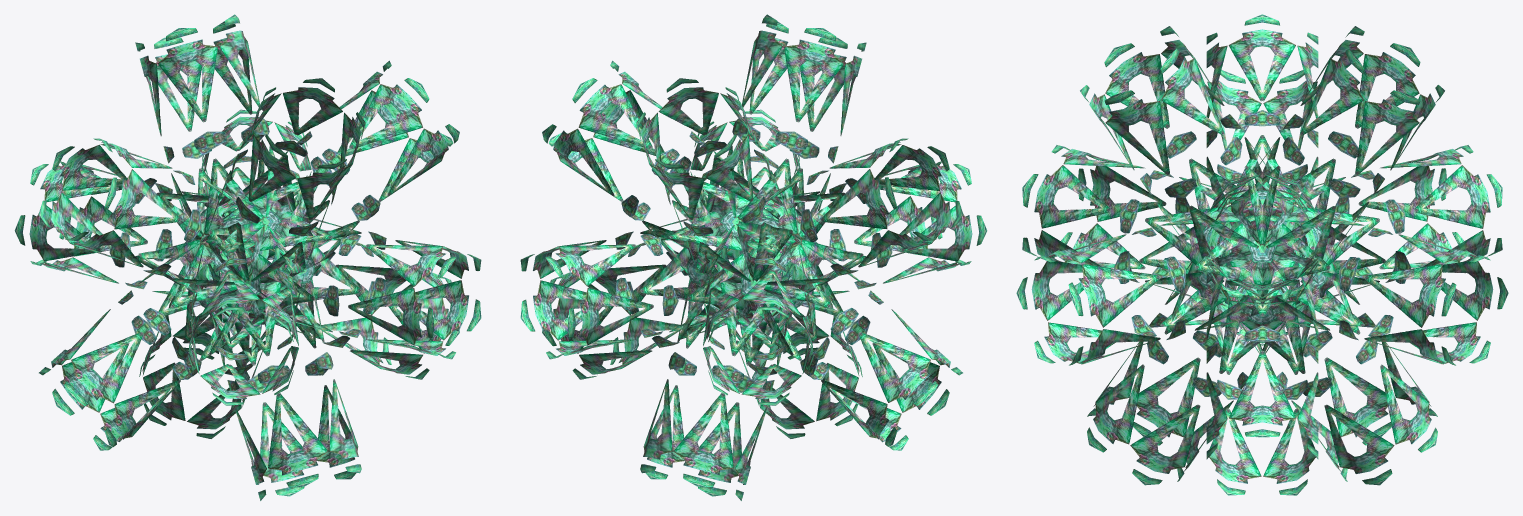
The model's file is SmallIcosihemidodecacron4.gltf.
3 renders of one model, left to right at view 1: azimuth 30°, elevation 25°; view 2: azimuth 150°, elevation 25°; view 3: azimuth 270°, elevation 25°, orthographic. The views are drawn at different scales.
Parts seen in each view (by area): view 1: SmallIcosihemidodecacron; view 2: SmallIcosihemidodecacron; view 3: SmallIcosihemidodecacron.
Part boxes in pixels (<box>): SmallIcosihemidodecacron: <box>14,14,481,500</box>; SmallIcosihemidodecacron: <box>520,14,987,500</box>; SmallIcosihemidodecacron: <box>1016,14,1508,495</box>.
Bounding box in the file's own units: 13.61 × 13.61 × 13.61.
Materials: 1 (1 with a texture image).
